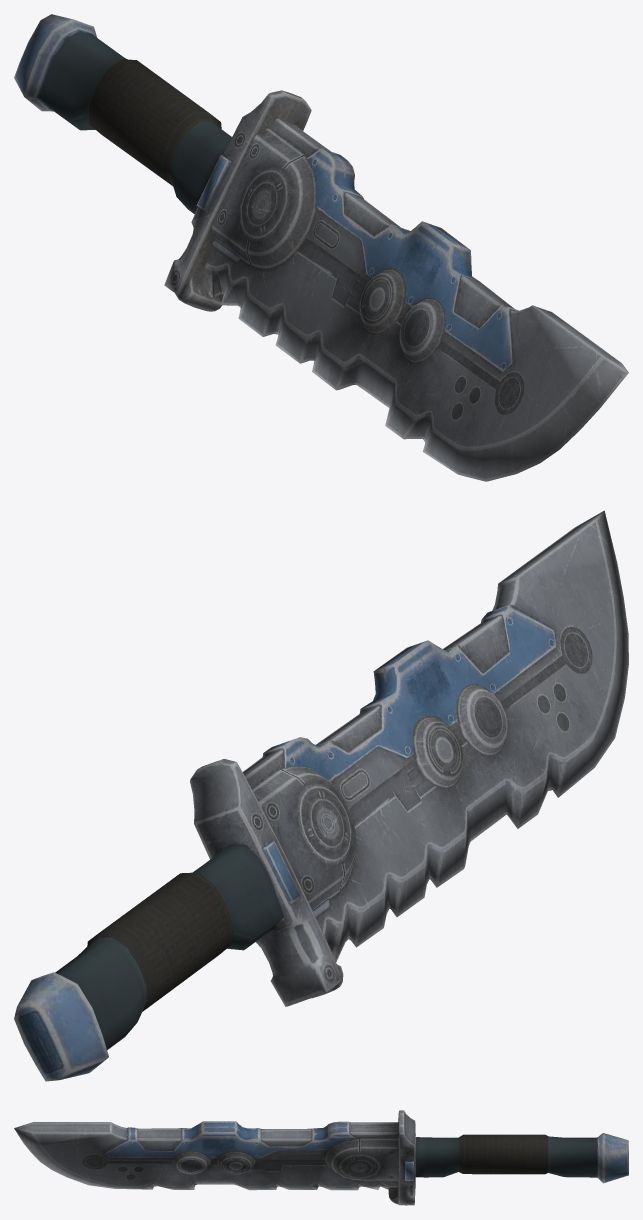
Rendered from sf-knife-5c3a1319.glb.
3 renders of one model, top to bottom at view 1: azimuth 30°, elevation 25°; view 2: azimuth 150°, elevation 25°; view 3: azimuth 270°, elevation 25°, orthographic. The views are drawn at different scales.
Visible parts, largest first — view 1: Circle_Circle; view 2: Circle_Circle; view 3: Circle_Circle.
Boxes of the visible parts, x1,y1,x2,y2 form: Circle_Circle: [14, 14, 628, 481]; Circle_Circle: [14, 510, 628, 1081]; Circle_Circle: [14, 1110, 628, 1205].
Bounding box in the file's own units: 0.4759 × 0.6769 × 3.38.
1 material, 1 textured.
